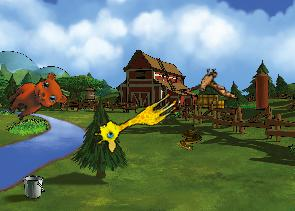bear: (2, 65, 72, 133)
eagle: (188, 65, 238, 105)
giraffe: (90, 81, 181, 157)
